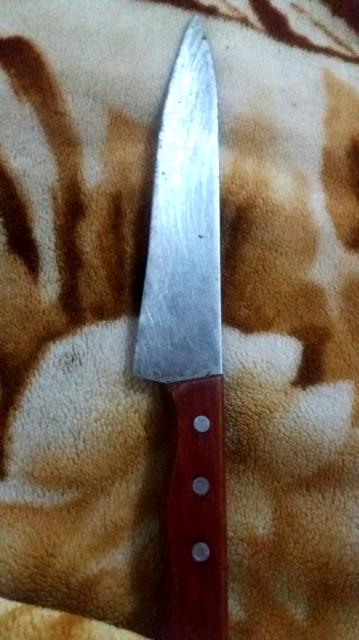Knife: (134, 17, 228, 640)
